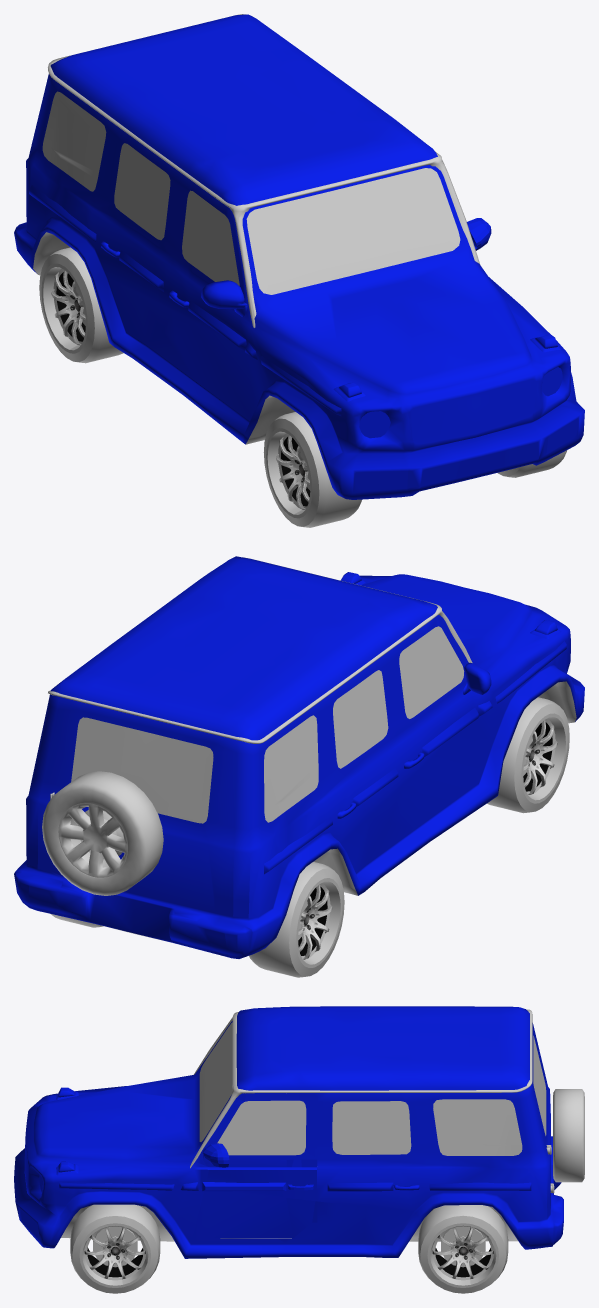
The model's file is car 2 texture.fbx.
The picture shows the model from 3 angles, top to bottom: view 1: azimuth 30°, elevation 25°; view 2: azimuth 150°, elevation 25°; view 3: azimuth 270°, elevation 25°; orthographic projection. The views are drawn at different scales.
Parts seen in each view (by area): view 1: BODY_1, Tyre_4_Rim_3_1, Tyre_4_Rim_2_1; view 2: BODY_1, Tyre_4_Rim_2_1, Tyre_4_Rim_3_1; view 3: BODY_1, Tyre_4_Rim_1.001, Tyre_4_Rim_1_1.
Boxes of the visible parts, x1,y1,x2,y2 form: BODY_1: [14, 14, 584, 499]; Tyre_4_Rim_3_1: [263, 412, 361, 527]; Tyre_4_Rim_2_1: [39, 247, 123, 363]; BODY_1: [14, 556, 584, 958]; Tyre_4_Rim_2_1: [249, 862, 344, 977]; Tyre_4_Rim_3_1: [487, 697, 569, 813]; BODY_1: [14, 1006, 584, 1258]; Tyre_4_Rim_1.001: [70, 1204, 160, 1293]; Tyre_4_Rim_1_1: [418, 1205, 508, 1293].
Bounding box in the file's own units: 218 × 198 × 489.
